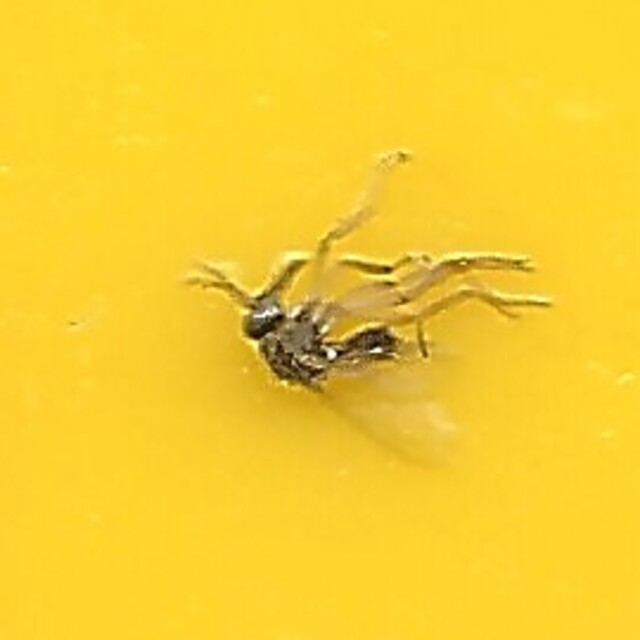Brachycera: (237, 252, 403, 388)
